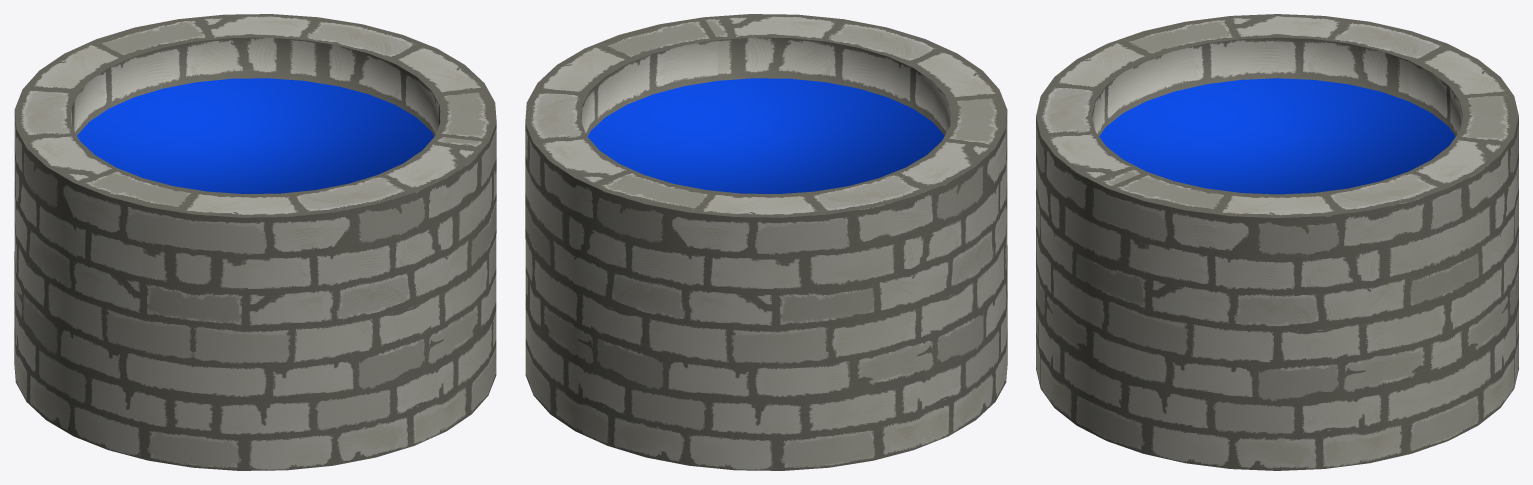
Rendered from Well.fbx.
3 renders of one model, left to right at view 1: azimuth 30°, elevation 25°; view 2: azimuth 150°, elevation 25°; view 3: azimuth 270°, elevation 25°, orthographic.
Parts seen in each view (by area): view 1: Well; view 2: Well; view 3: Well.
Part boxes in pixels (x1,y1,x2,y2): Well: [14, 14, 496, 470]; Well: [525, 14, 1007, 470]; Well: [1036, 14, 1518, 470].
Bounding box in the file's own units: 2 × 1.16 × 2.
